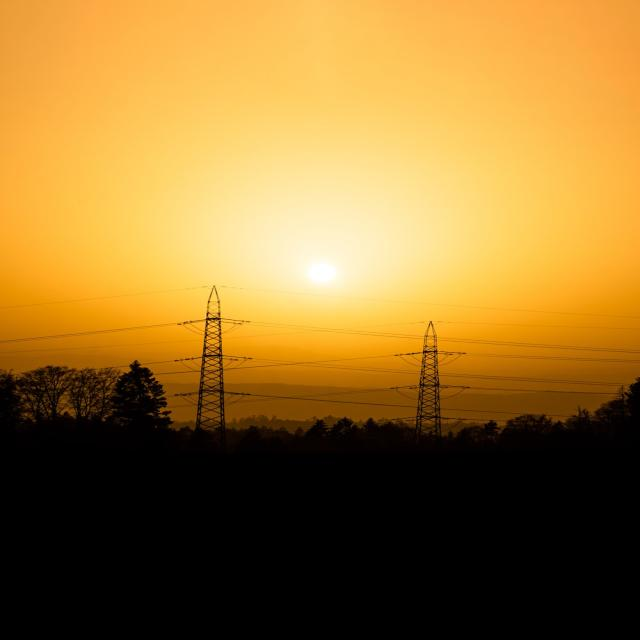transmission tower: (174, 278, 286, 442), (382, 308, 465, 449)
